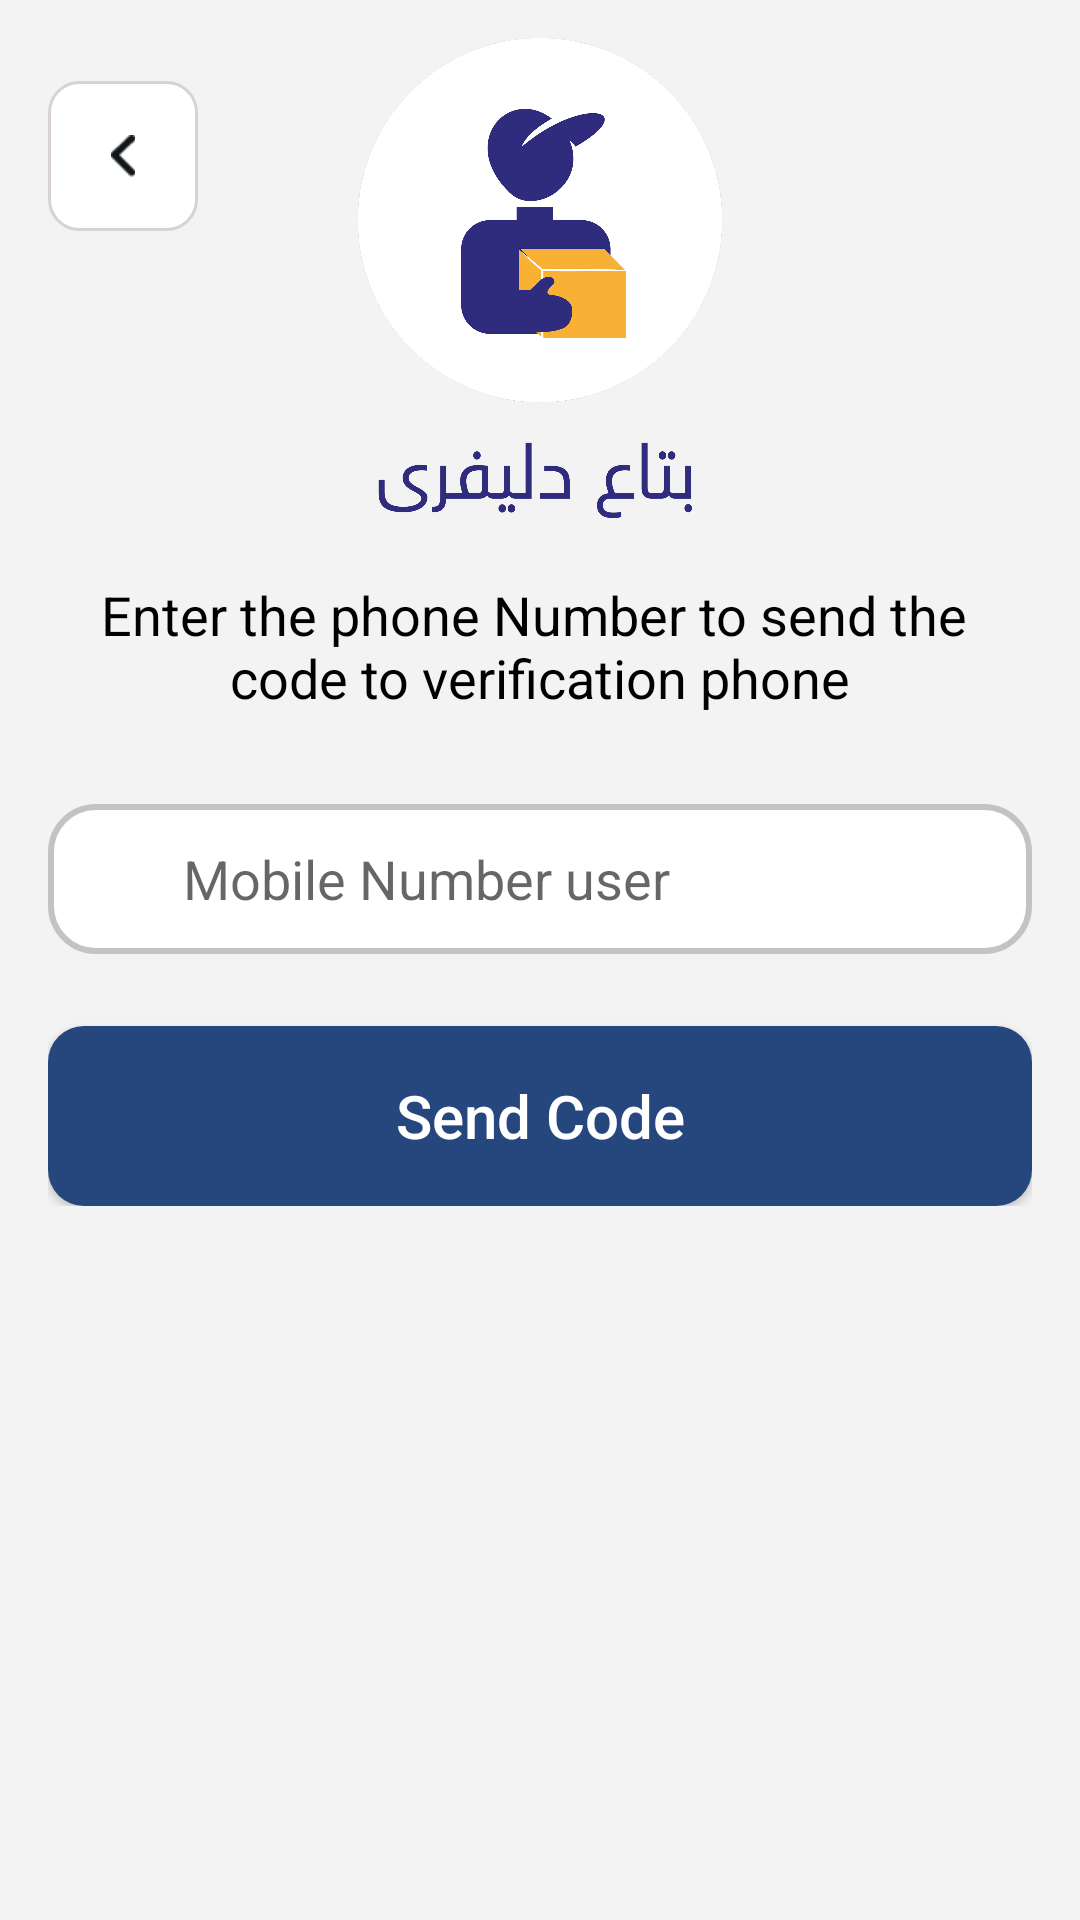

Point at icon controls on the screen. Image size 1080w x 1920h, points as point (x, y).
back: point (123, 156)
